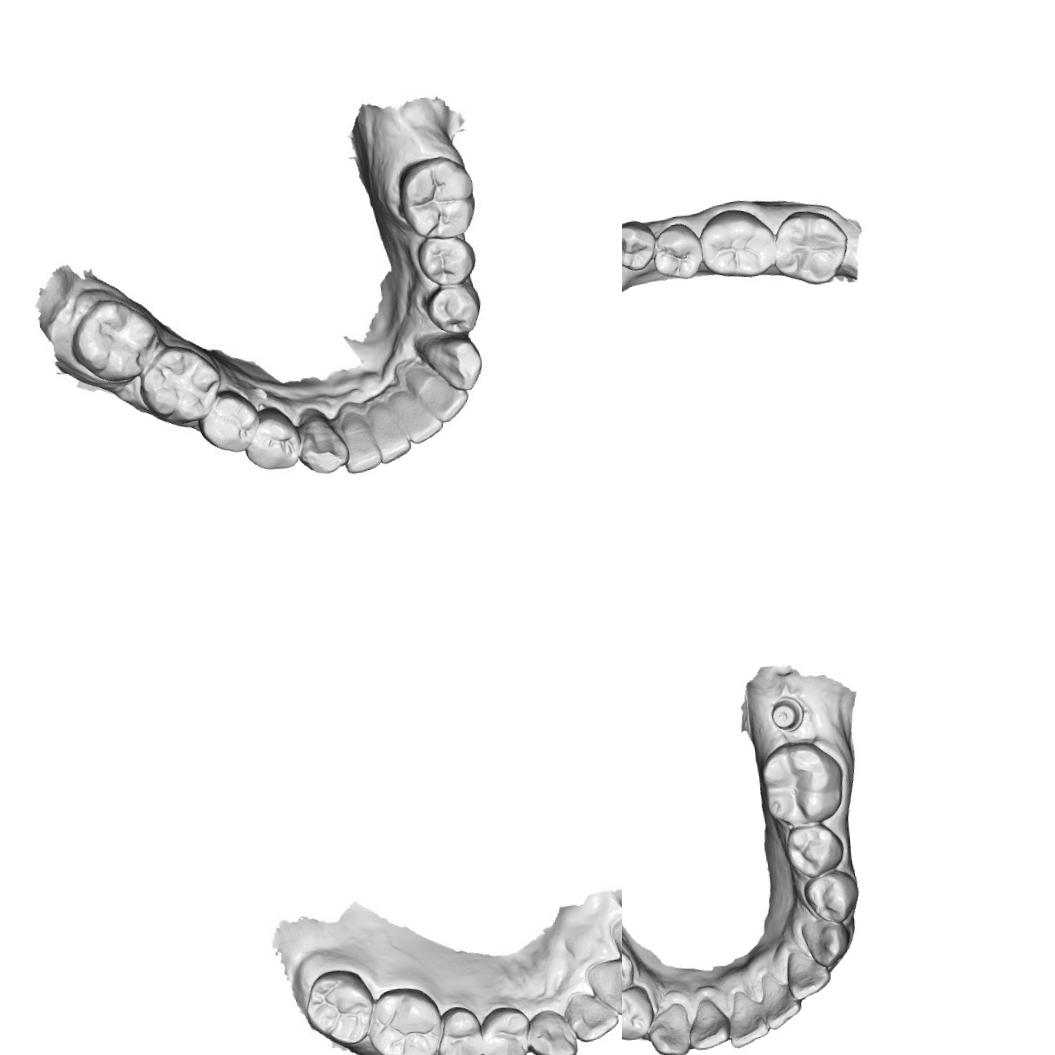canine: (416, 329, 486, 395), (294, 408, 355, 481), (797, 916, 852, 970), (524, 1004, 581, 1055), (644, 1000, 692, 1055)
implant: (768, 693, 805, 734)
incisor: (400, 355, 472, 425), (334, 398, 387, 476), (389, 376, 448, 446), (368, 398, 414, 468), (567, 988, 622, 1043), (724, 986, 770, 1050), (757, 970, 804, 1031), (783, 946, 833, 1003), (684, 994, 732, 1052), (586, 957, 622, 1017), (606, 908, 622, 966)
molar: (66, 292, 160, 385), (756, 736, 847, 828), (390, 150, 480, 243), (134, 340, 227, 426), (770, 206, 851, 288), (296, 966, 373, 1048), (696, 206, 778, 282), (362, 982, 443, 1055)
premolar: (196, 386, 261, 460), (242, 402, 304, 472), (410, 229, 476, 286), (782, 822, 846, 880), (800, 866, 860, 926), (422, 278, 484, 336), (650, 220, 704, 282), (476, 1003, 534, 1055), (430, 1003, 487, 1055), (622, 217, 658, 274), (622, 982, 656, 1042), (622, 937, 637, 1002)
